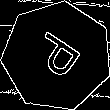P_SE: (25, 27, 89, 85)
